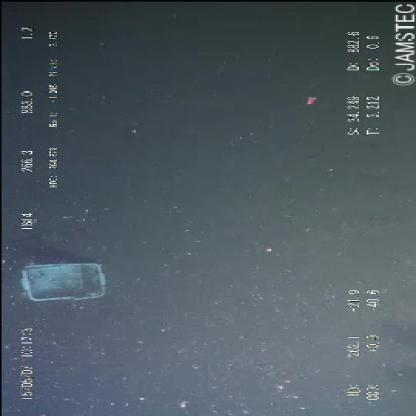Rác: (11, 259, 114, 305)
